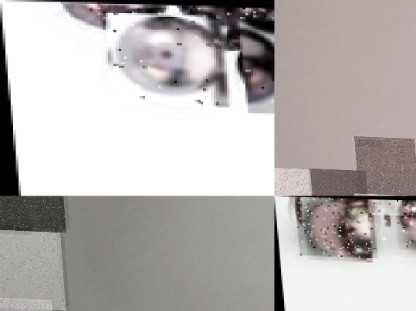ironball: (103, 15, 232, 103), (0, 229, 63, 310), (294, 197, 376, 257), (351, 134, 415, 196), (238, 17, 274, 112), (0, 196, 65, 232), (195, 4, 261, 38), (63, 1, 175, 21), (306, 167, 366, 196), (274, 166, 311, 196), (394, 199, 415, 249), (368, 198, 403, 215)
